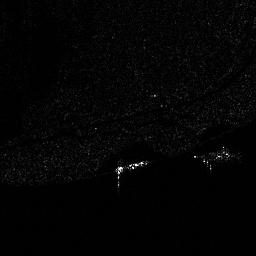ship: (114, 158, 148, 175)
